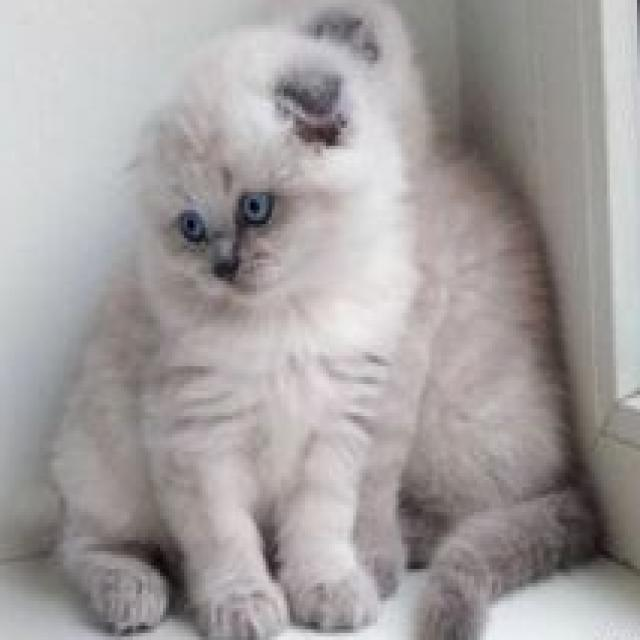Scottish Fold: (36, 25, 417, 640)
